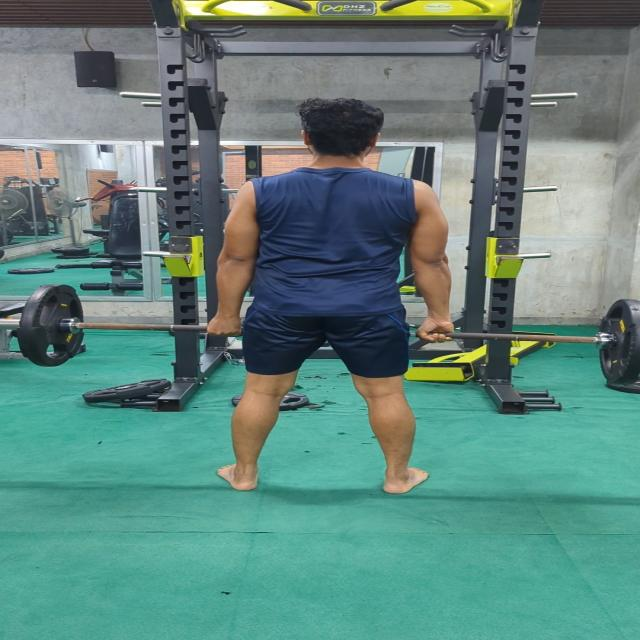Normal_Deadlifts: (204, 96, 461, 497)
